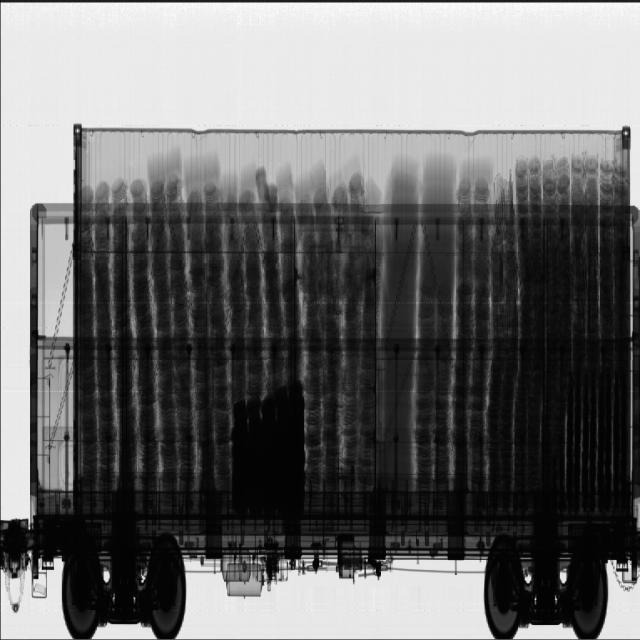table ware: (280, 130, 530, 476), (124, 132, 239, 471)
